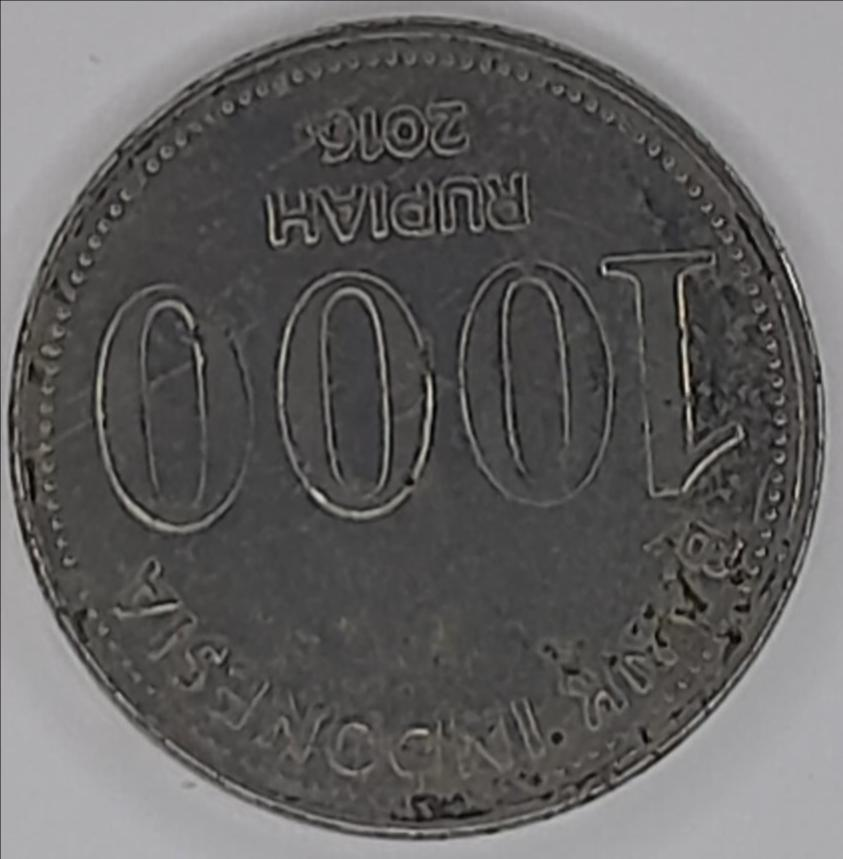coin_1000_e2016: (14, 17, 832, 859)
